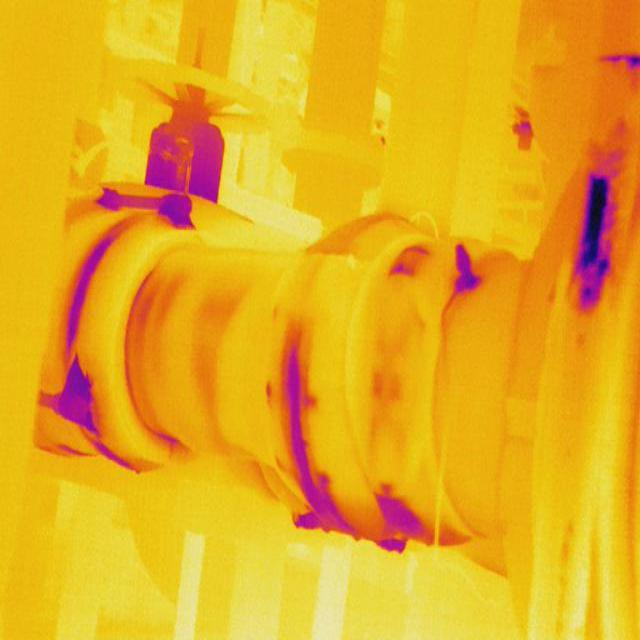leakage: (281, 324, 340, 531), (565, 158, 621, 315), (62, 220, 125, 342), (92, 181, 216, 219), (52, 346, 101, 436), (374, 478, 429, 554), (367, 360, 406, 415), (450, 233, 480, 293), (386, 240, 428, 280), (191, 356, 221, 412), (193, 291, 236, 326)
